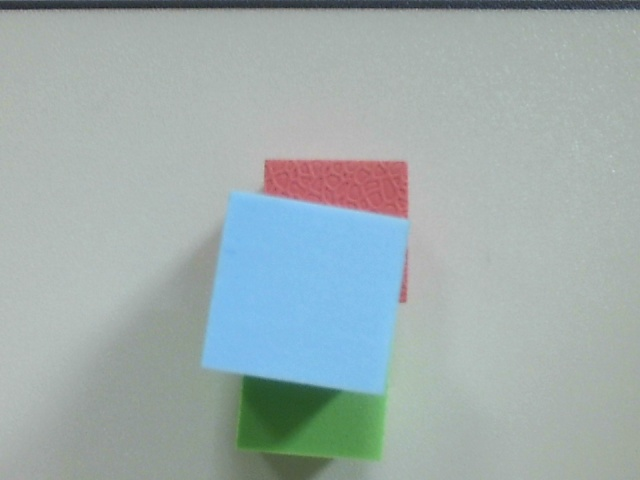greencube: (204, 309, 411, 465)
